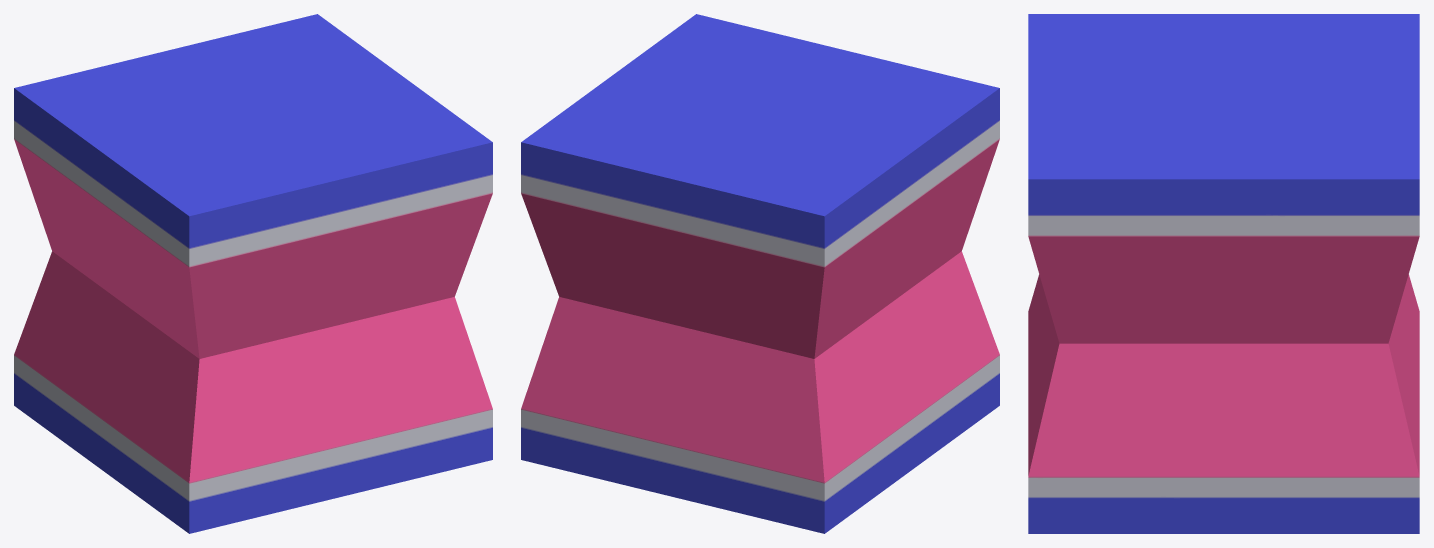
Rendered from normal.fbx.
The picture shows the model from 3 angles, left to right: view 1: azimuth 30°, elevation 25°; view 2: azimuth 150°, elevation 25°; view 3: azimuth 270°, elevation 25°; orthographic projection. The views are drawn at different scales.
Parts seen in each view (by area): view 1: normal.001; view 2: normal.001; view 3: normal.001.
Boxes of the visible parts, left/top/right/bottom form: normal.001: left=14, top=14, right=492, bottom=533; normal.001: left=521, top=14, right=999, bottom=533; normal.001: left=1028, top=14, right=1419, bottom=533.
Bounding box in the file's own units: 100 × 100 × 100.
